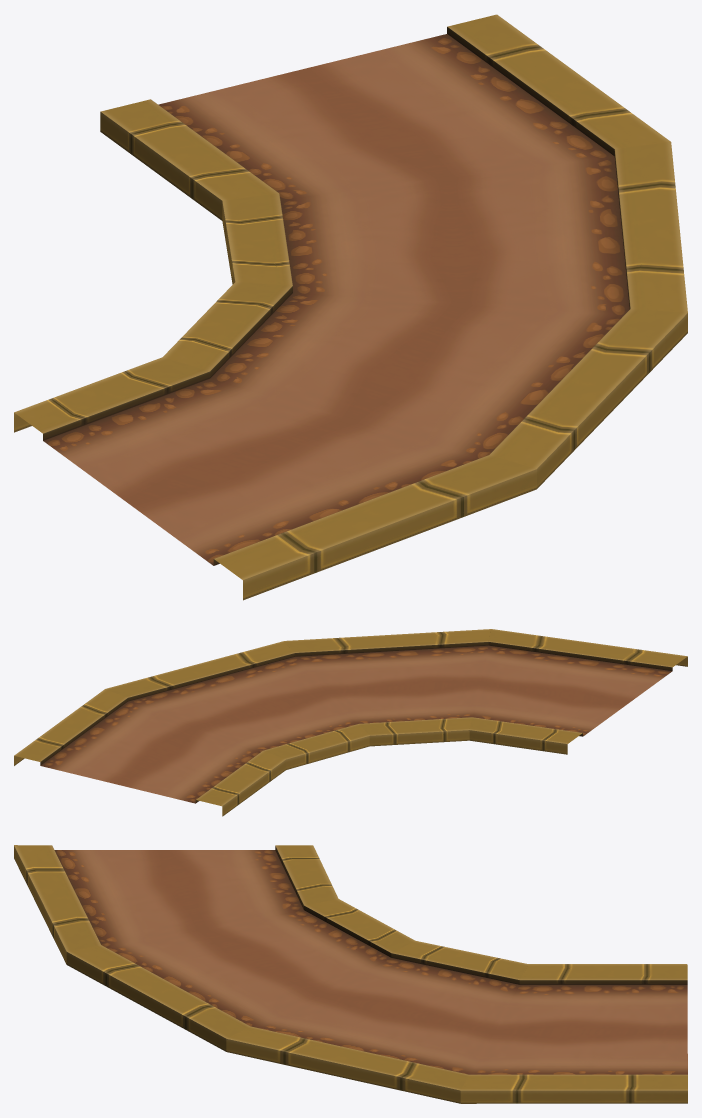
The model's file is RoadPiece_06.FBX.
3 renders of one model, top to bottom at view 1: azimuth 30°, elevation 25°; view 2: azimuth 150°, elevation 25°; view 3: azimuth 270°, elevation 25°, orthographic. The views are drawn at different scales.
Parts seen in each view (by area): view 1: RoadPiece_06; view 2: RoadPiece_06; view 3: RoadPiece_06.
Boxes of the visible parts, x1,y1,x2,y2 form: RoadPiece_06: (14, 14, 687, 600); RoadPiece_06: (14, 629, 687, 816); RoadPiece_06: (14, 845, 687, 1103).
Size of the model in its own units: 3.17 by 0.0795 by 3.67.
